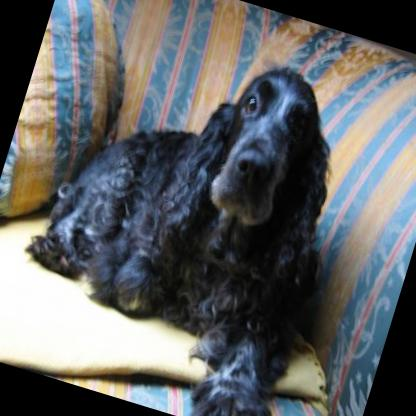cocker_spaniel: (0, 5, 378, 416)
